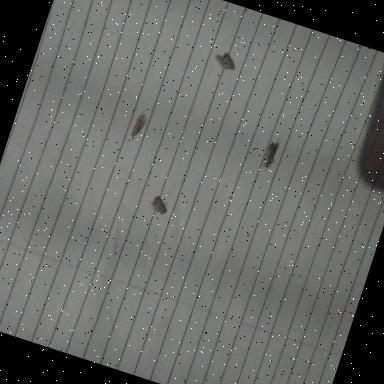pbw: (260, 135, 282, 169), (128, 108, 148, 142), (149, 195, 170, 215), (218, 52, 238, 70), (211, 52, 231, 70)
